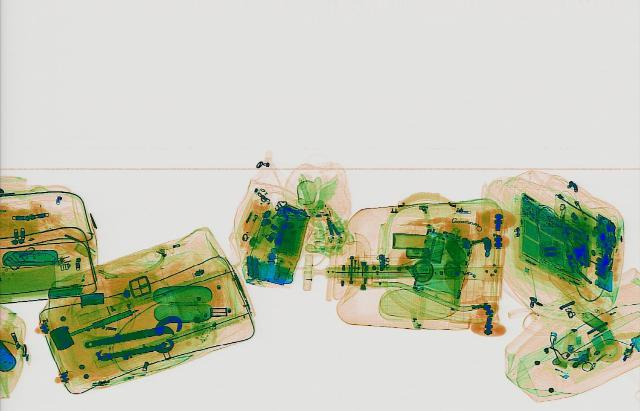Wrench: (96, 337, 176, 362)
